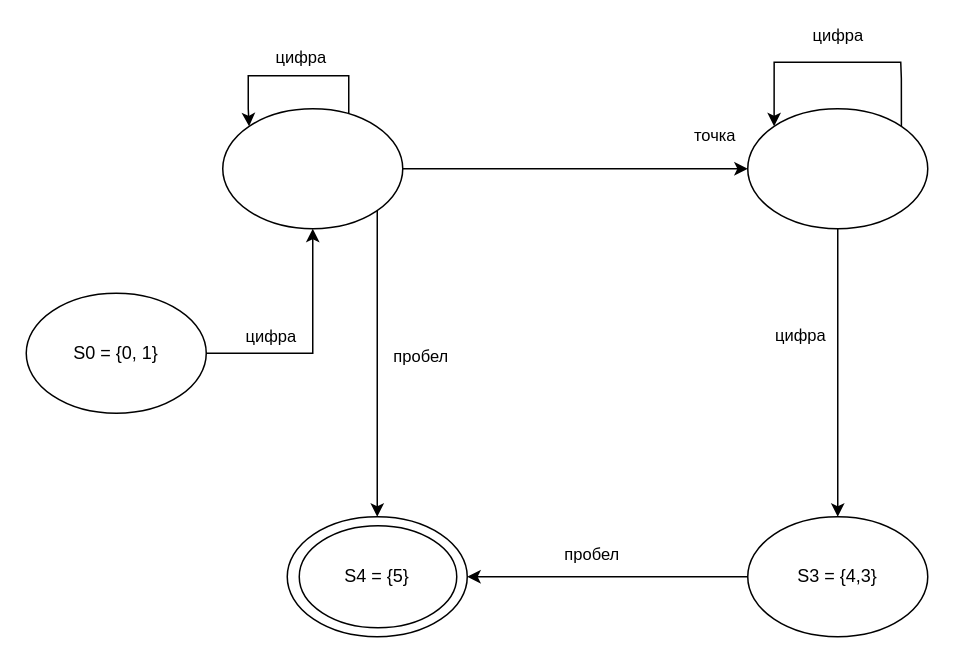
This 954x663 diagram has some shape labels left out. Here are the shapes that lost their labels. From the top down, the box of each, then its label:
(221, 107, 403, 229): S1 = {2, 1}
(746, 107, 928, 229): S2 = {3}
